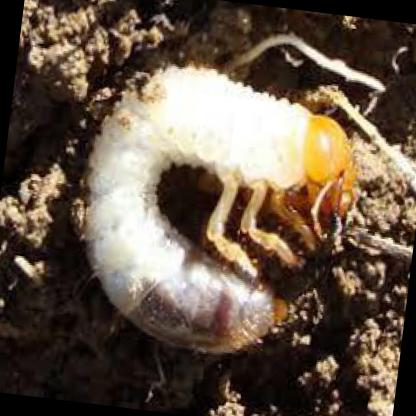root grubs: (84, 66, 352, 353)
